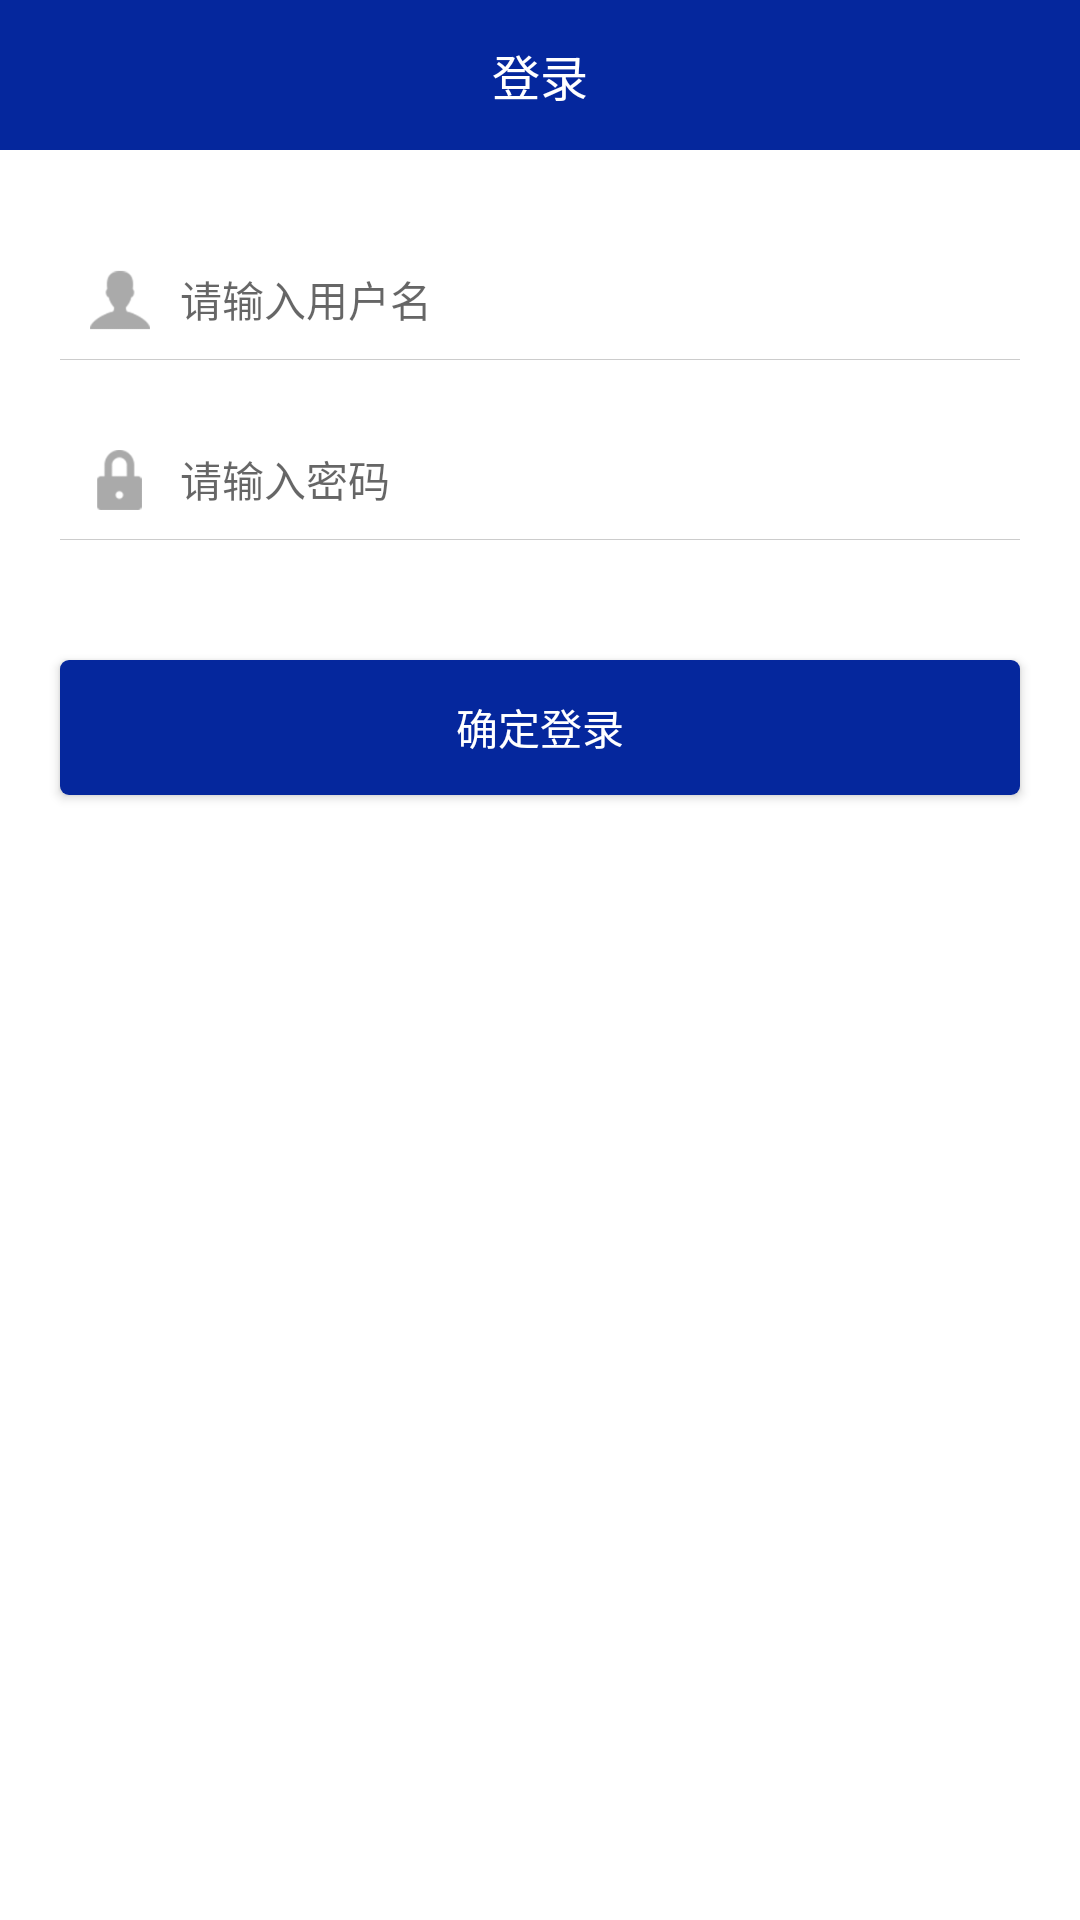

Point at icon controls on the screen. Image size 1080*1920, points as point (x, y).
password: point (119, 480)
username: point (120, 300)
